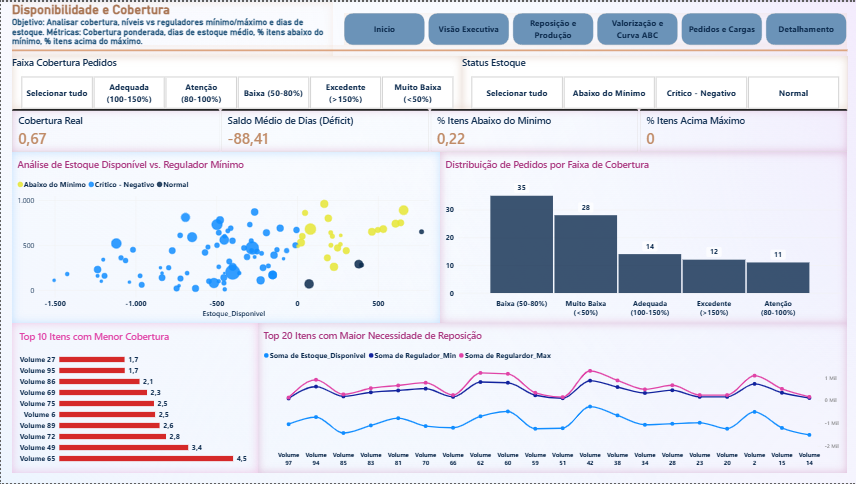

Layout of this report page (visuals, bound fields, positions):
{"tool":"powerbi","page":{"name":"Disponibilidade e Cobertura","canvas":[1920,1080],"ordinal":2},"visuals":[{"type":"textbox","box":[24,0,720,120],"z":0},{"type":"pageNavigator","box":[768,24,1128,72],"z":1000},{"type":"shape","box":[24,96,1872,24],"z":2000},{"type":"slicer","title":"Faixa Cobertura Pedidos","fields":{"Values":["fEstoque.Faixa_Cobertura_Pedidos"]},"box":[24,120,1008,120],"z":2002},{"type":"slicer","title":"Status Estoque","fields":{"Values":["fEstoque.Status_Estoque"]},"box":[1032,120,864,120],"z":2003},{"type":"cardVisual","fields":{"Data":["_Medidas.Cobertura_Real","_Medidas.Dias_Estoque_Medio","_Medidas.%_Itens_Abaixo_Minimo","_Medidas.%_Itens_Acima_Maximo"]},"box":[24,240,1872,96],"z":2004},{"type":"scatterChart","title":"Análise de Estoque Disponível vs. Regulador Mínimo","fields":{"Series":["fEstoque.Status_Estoque"],"Size":["_Medidas.Valor_Estoque_Total"],"X":["fEstoque.Estoque_Disponivel"],"Y":["fEstoque.Regulador_Min"]},"box":[24,336,960,384],"z":2005},{"type":"lineClusteredColumnComboChart","title":"Distribuição de Pedidos por Faixa de Cobertura","fields":{"Category":["fEstoque.Faixa_Cobertura_Pedidos"],"Y":["_Medidas.Total_Itens"]},"box":[984,336,912,384],"z":2006},{"type":"barChart","title":"Top 10 Itens com Menor Cobertura","fields":{"Category":["fEstoque.Descricao_do_Item"],"Y":["Sum(fEstoque.%_Cobertura_Pedidos)"]},"box":[24,720,552,336],"z":2007},{"type":"lineChart","title":"Top 20 Itens com Maior Necessidade de Reposição","fields":{"Category":["fEstoque.Descricao_do_Item"],"Y2":["Sum(fEstoque.Estoque_Disponivel)","Sum(fEstoque.Regulador_Min)","Sum(fEstoque.Regulardor_Max)"]},"box":[576,720,1320,336],"z":2008}]}

Visuals, with their boxes in screenshot pixels (x1, y1, x2, y2), scaled from the page's 1920x1080 canvas onto the 856x484 screenshot:
textbox: 11:0:332:54
pageNavigator: 342:11:845:43
shape: 11:43:845:54
"Faixa Cobertura Pedidos" slicer: 11:54:460:108
"Status Estoque" slicer: 460:54:845:108
cardVisual - _Medidas.Cobertura_Real x _Medidas.Dias_Estoque_Medio: 11:108:845:151
"Análise de Estoque Disponível vs. Regulador Mínimo" scatterChart: 11:151:439:323
"Distribuição de Pedidos por Faixa de Cobertura" lineClusteredColumnComboChart: 439:151:845:323
"Top 10 Itens com Menor Cobertura" barChart: 11:323:257:473
"Top 20 Itens com Maior Necessidade de Reposição" lineChart: 257:323:845:473
